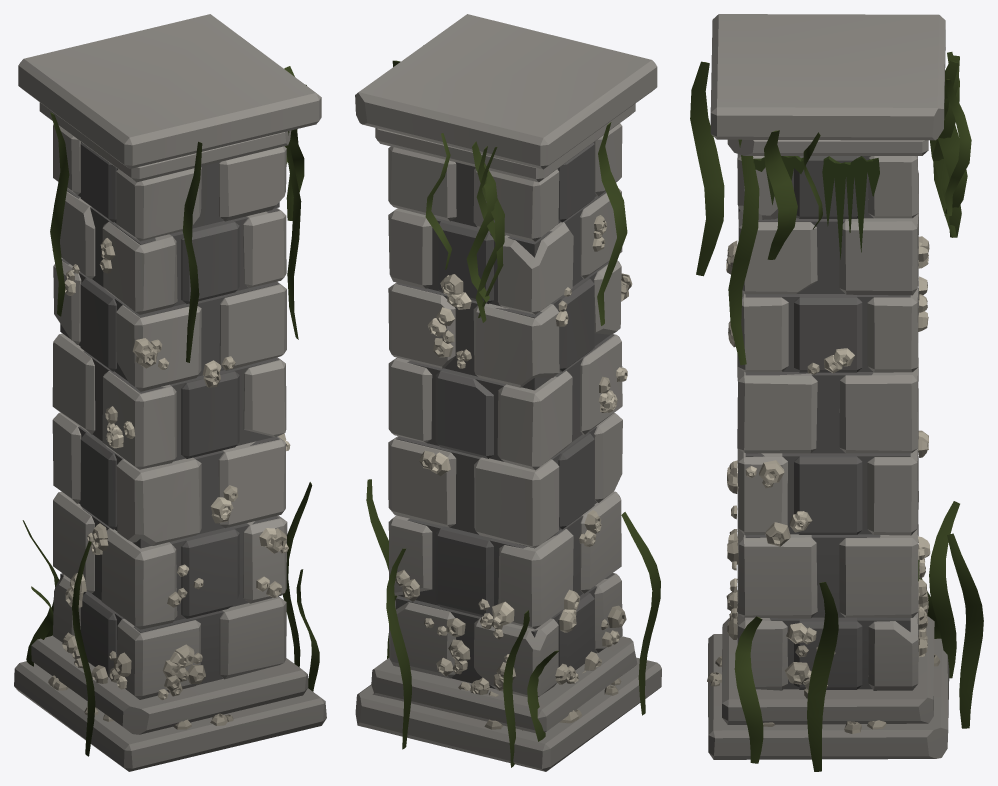
Rendered from barnacle_pillar.glb.
3 views of the same model, side by side, from view 1: azimuth 30°, elevation 25°; view 2: azimuth 150°, elevation 25°; view 3: azimuth 270°, elevation 25° (orthographic). The views are drawn at different scales.
Parts seen in each view (by area): view 1: barnacle_pillar; view 2: barnacle_pillar; view 3: barnacle_pillar.
Boxes of the visible parts, <box> form: barnacle_pillar: <box>14,14,326,771</box>; barnacle_pillar: <box>355,14,661,771</box>; barnacle_pillar: <box>690,14,983,771</box>.
Size of what is drawn, in the model's own units: 1.74 by 4 by 1.64.
